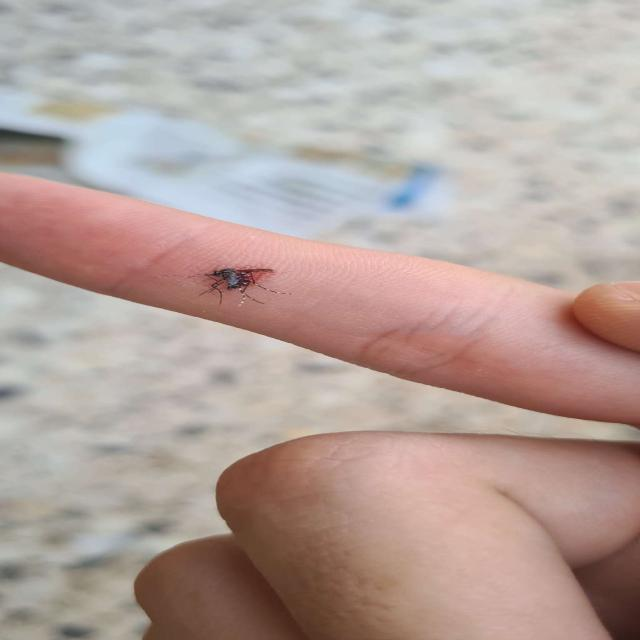albopictus: (180, 264, 296, 309)
